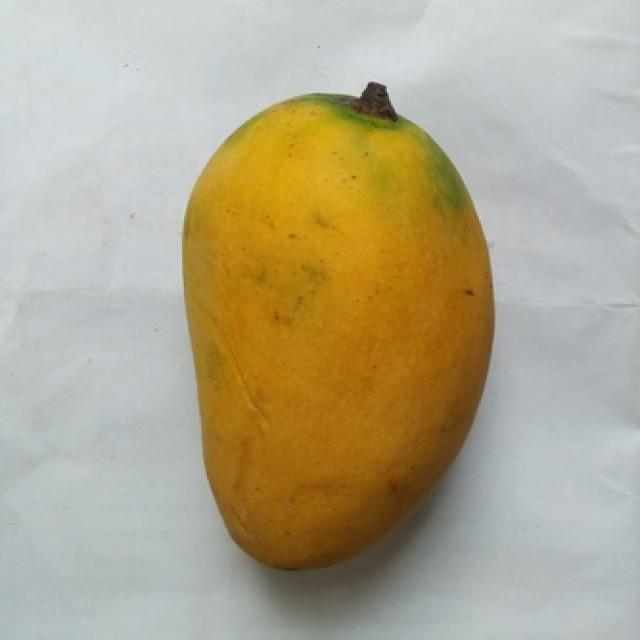Mango: (184, 94, 492, 565)
